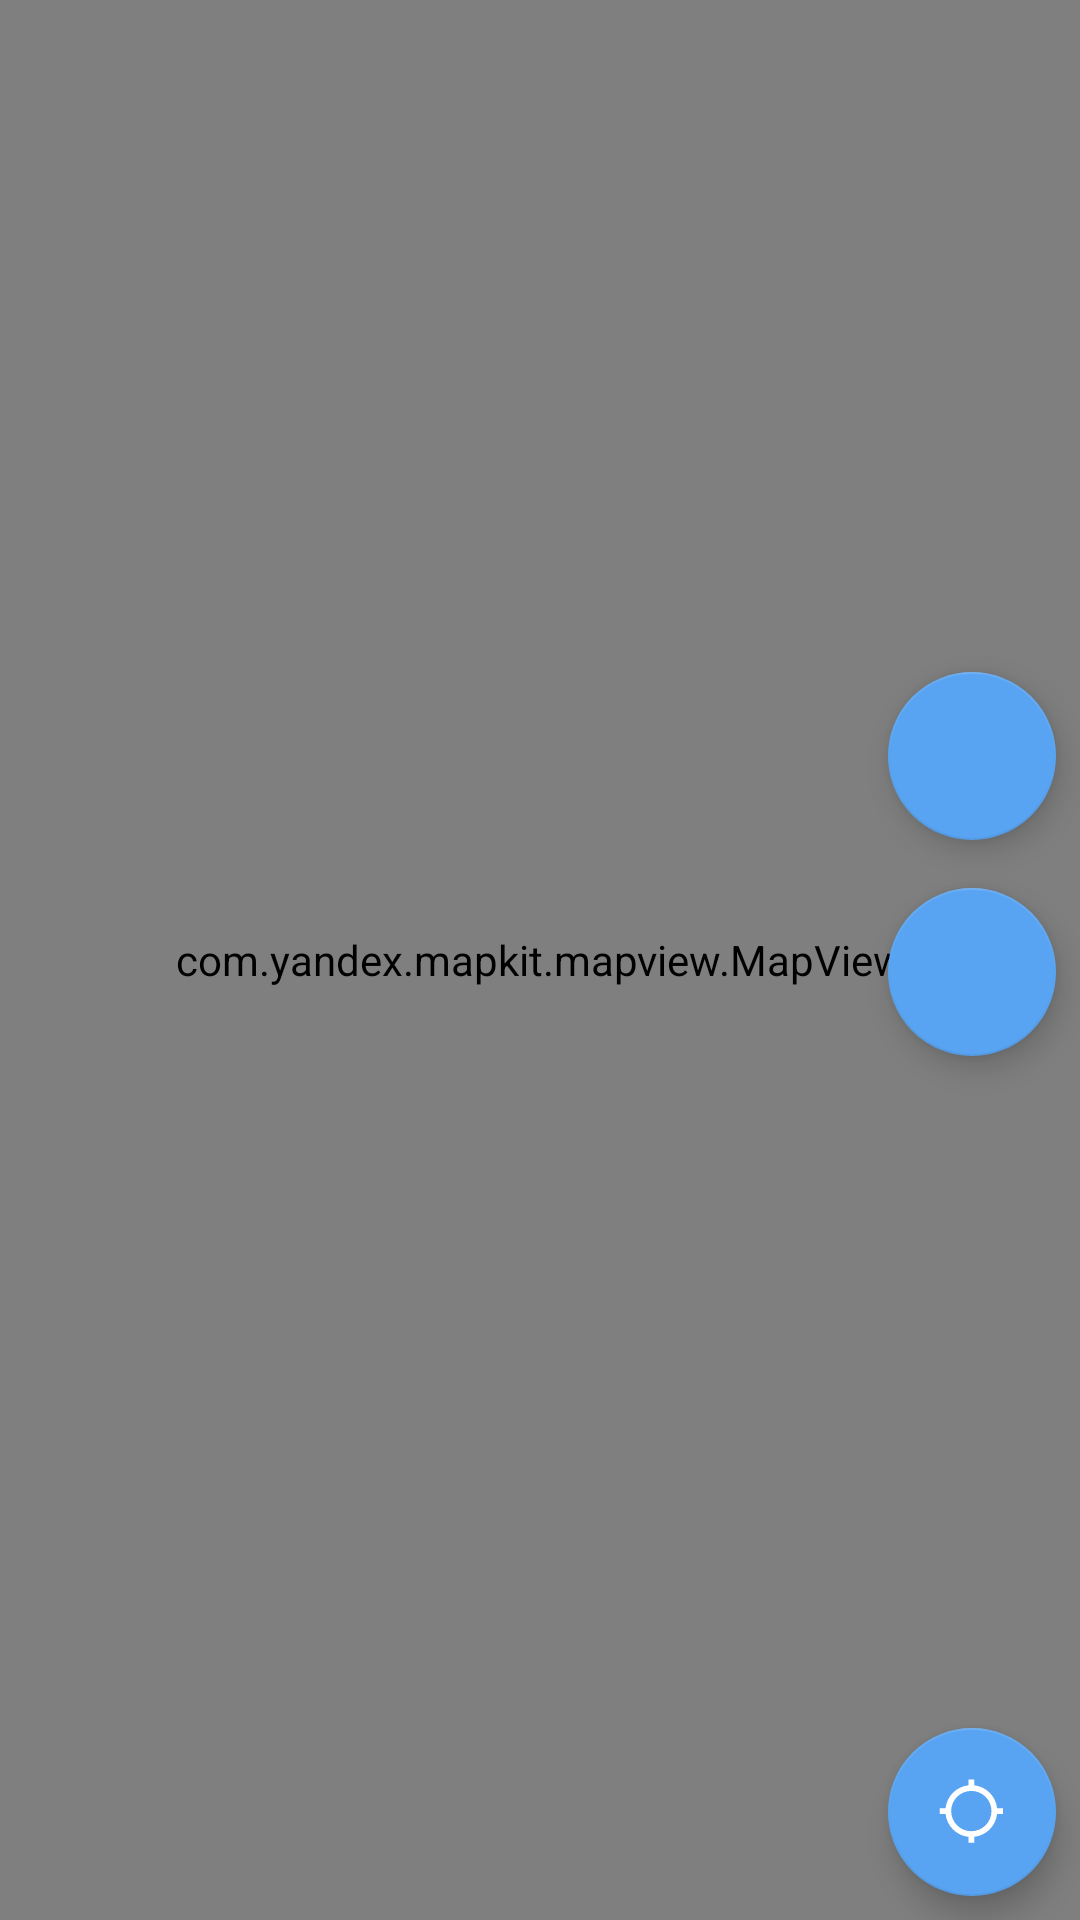

Where icons sit on this 1080×1920 app screen, as (x1, y1, x2, y2):
User location: (888, 1728, 1056, 1896)
